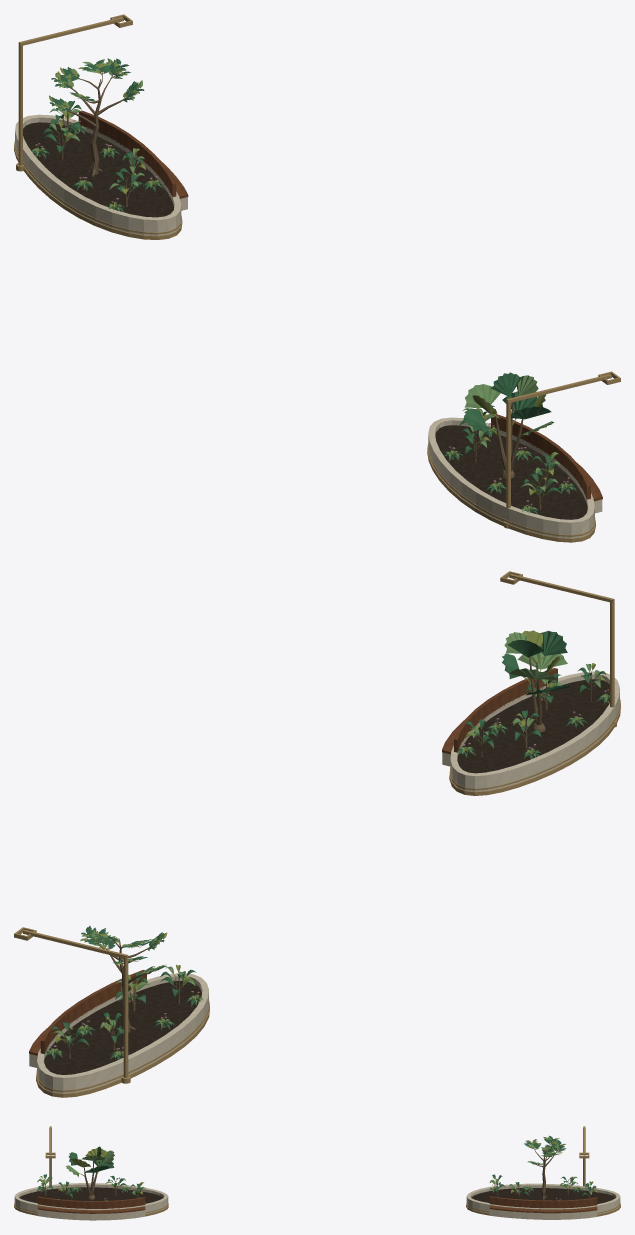
File: G7_Completion_R006B_G7C6_D06_ComposedEdge.glb
The picture shows the model from 3 angles, top to bottom: view 1: azimuth 30°, elevation 25°; view 2: azimuth 150°, elevation 25°; view 3: azimuth 270°, elevation 25°; orthographic projection. The views are drawn at different scales.
Parts seen in each view (by area): view 1: G7C6_D06_ComposedEdge_G7C6_soil_solid_planter, G7C6_D06_ComposedEdge_G7C6_stone_solid_planter, G7C6_D06_ComposedEdge_G7C6_wood_solid_furniture, G7C6_D06_ComposedEdge_G7C6_metal_solid_planter, G7C6_D06_ComposedEdge_G7C6_metal_solid_fixture, G7C6_D06_ComposedEdge_ASTRAEA_botanical_leaf_jade.003_visual, G7C6_D06_ComposedEdge_ASTRAEA_botanical_leaf_jade.001_visual, G7C6_D06_ComposedEdge_ASTRAEA_botanical_leaf_jade_visual_fol, G7C6_D06_ComposedEdge_ASTRAEA_botanical_leaf_sage.003_visual, G7C6_D06_ComposedEdge_ASTRAEA_botanical_bark_solid_tree_bark, G7C6_D06_ComposedEdge_ASTRAEA_botanical_leaf_sage.001_visual, G7C6_D06_ComposedEdge_ASTRAEA_botanical_leaf_jade.002_visual; view 2: G7C6_D06_ComposedEdge_G7C6_soil_solid_planter, G7C6_D06_ComposedEdge_G7C6_stone_solid_planter, G7C6_D06_ComposedEdge_G7C6_wood_solid_furniture, G7C6_D06_ComposedEdge_G7C6_metal_solid_fixture, G7C6_D06_ComposedEdge_G7C6_metal_solid_planter, G7C6_D06_ComposedEdge_ASTRAEA_botanical_leaf_jade.001_visual, G7C6_D06_ComposedEdge_ASTRAEA_botanical_leaf_jade.003_visual, G7C6_D06_ComposedEdge_ASTRAEA_botanical_leaf_sage.003_visual, G7C6_D06_ComposedEdge_ASTRAEA_botanical_leaf_sage.001_visual, G7C6_D06_ComposedEdge_ASTRAEA_botanical_leaf_jade_visual_fol, G7C6_D06_ComposedEdge_ASTRAEA_botanical_leaf_jade.002_visual; view 3: G7C6_D06_ComposedEdge_G7C6_wood_solid_furniture, G7C6_D06_ComposedEdge_G7C6_soil_solid_planter, G7C6_D06_ComposedEdge_G7C6_stone_solid_planter, G7C6_D06_ComposedEdge_G7C6_stone_solid_furniture, G7C6_D06_ComposedEdge_ASTRAEA_botanical_leaf_jade.001_visual, G7C6_D06_ComposedEdge_G7C6_metal_solid_fixture, G7C6_D06_ComposedEdge_G7C6_metal_solid_planter, G7C6_D06_ComposedEdge_ASTRAEA_botanical_leaf_jade_visual_fol, G7C6_D06_ComposedEdge_ASTRAEA_botanical_leaf_jade.003_visual, G7C6_D06_ComposedEdge_ASTRAEA_botanical_leaf_sage.003_visual, G7C6_D06_ComposedEdge_ASTRAEA_botanical_bark_solid_tree_bark, G7C6_D06_ComposedEdge_ASTRAEA_botanical_leaf_olive.003_visua (+6 smaller).
Part boxes in pixels (box(x1,y1,x2,y2)): G7C6_D06_ComposedEdge_G7C6_soil_solid_planter: box(23, 122, 587, 519); G7C6_D06_ComposedEdge_G7C6_stone_solid_planter: box(15, 114, 594, 538); G7C6_D06_ComposedEdge_G7C6_wood_solid_furniture: box(78, 110, 602, 501); G7C6_D06_ComposedEdge_G7C6_metal_solid_planter: box(14, 141, 595, 542); G7C6_D06_ComposedEdge_G7C6_metal_solid_fixture: box(16, 14, 620, 528); G7C6_D06_ComposedEdge_ASTRAEA_botanical_leaf_jade.003_visual: box(464, 372, 551, 431); G7C6_D06_ComposedEdge_ASTRAEA_botanical_leaf_jade.001_visual: box(43, 101, 561, 493); G7C6_D06_ComposedEdge_ASTRAEA_botanical_leaf_jade_visual_fol: box(49, 58, 144, 111); G7C6_D06_ComposedEdge_ASTRAEA_botanical_leaf_sage.003_visual: box(464, 375, 554, 438); G7C6_D06_ComposedEdge_ASTRAEA_botanical_bark_solid_tree_bark: box(59, 65, 128, 176); G7C6_D06_ComposedEdge_ASTRAEA_botanical_leaf_sage.001_visual: box(48, 107, 560, 491); G7C6_D06_ComposedEdge_ASTRAEA_botanical_leaf_jade.002_visual: box(31, 126, 576, 516); G7C6_D06_ComposedEdge_G7C6_soil_solid_planter: box(44, 679, 609, 1074); G7C6_D06_ComposedEdge_G7C6_stone_solid_planter: box(37, 671, 619, 1093); G7C6_D06_ComposedEdge_G7C6_wood_solid_furniture: box(29, 668, 557, 1055); G7C6_D06_ComposedEdge_G7C6_metal_solid_fixture: box(14, 571, 616, 1083); G7C6_D06_ComposedEdge_G7C6_metal_solid_planter: box(36, 699, 620, 1097); G7C6_D06_ComposedEdge_ASTRAEA_botanical_leaf_jade.001_visual: box(52, 667, 606, 1045); G7C6_D06_ComposedEdge_ASTRAEA_botanical_leaf_jade.003_visual: box(502, 630, 570, 695); G7C6_D06_ComposedEdge_ASTRAEA_botanical_leaf_sage.003_visual: box(504, 632, 567, 679); G7C6_D06_ComposedEdge_ASTRAEA_botanical_leaf_sage.001_visual: box(52, 664, 601, 1040); G7C6_D06_ComposedEdge_ASTRAEA_botanical_leaf_jade_visual_fol: box(81, 925, 167, 975); G7C6_D06_ComposedEdge_ASTRAEA_botanical_leaf_jade.002_visual: box(45, 692, 615, 1059); G7C6_D06_ComposedEdge_G7C6_wood_solid_furniture: box(37, 1196, 597, 1213); G7C6_D06_ComposedEdge_G7C6_soil_solid_planter: box(19, 1187, 615, 1203); G7C6_D06_ComposedEdge_G7C6_stone_solid_planter: box(14, 1183, 620, 1214); G7C6_D06_ComposedEdge_G7C6_stone_solid_furniture: box(37, 1209, 597, 1220); G7C6_D06_ComposedEdge_ASTRAEA_botanical_leaf_jade.001_visual: box(38, 1174, 596, 1197); G7C6_D06_ComposedEdge_G7C6_metal_solid_fixture: box(45, 1126, 589, 1186); G7C6_D06_ComposedEdge_G7C6_metal_solid_planter: box(14, 1203, 620, 1216); G7C6_D06_ComposedEdge_ASTRAEA_botanical_leaf_jade_visual_fol: box(524, 1136, 566, 1164); G7C6_D06_ComposedEdge_ASTRAEA_botanical_leaf_jade.003_visual: box(68, 1146, 114, 1172); G7C6_D06_ComposedEdge_ASTRAEA_botanical_leaf_sage.003_visual: box(66, 1150, 114, 1177); G7C6_D06_ComposedEdge_ASTRAEA_botanical_bark_solid_tree_bark: box(533, 1143, 559, 1199); G7C6_D06_ComposedEdge_ASTRAEA_botanical_leaf_olive.003_visua: box(69, 1148, 107, 1176).
Bounding box in the file's own units: 3.31 × 3.39 × 26.85.
Materials: 22 (21 with a texture image).
